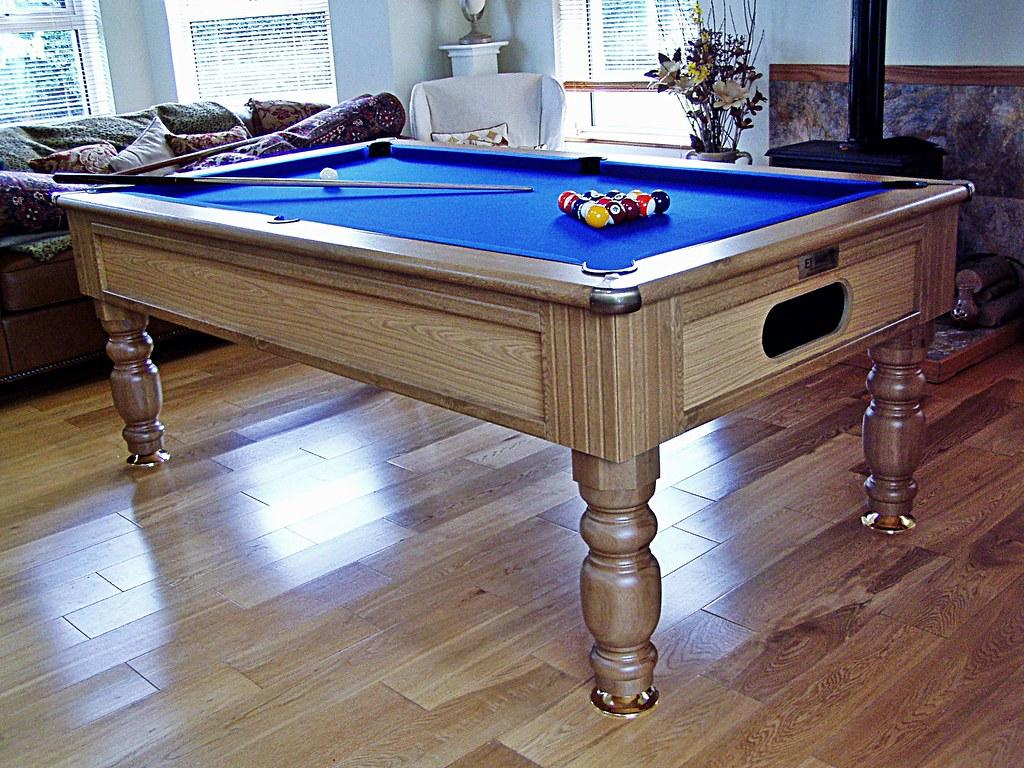table: (52, 135, 975, 719)
